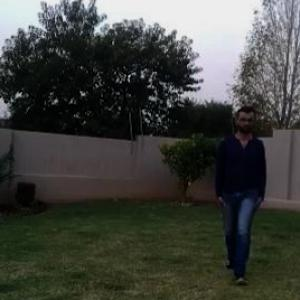follow: (213, 111, 264, 273)
